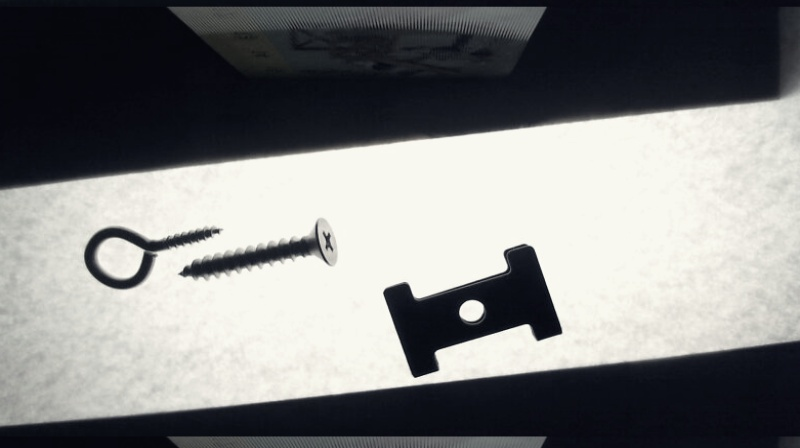O001: (80, 220, 224, 291)
O002: (377, 242, 565, 380)
S001: (177, 215, 341, 282)
